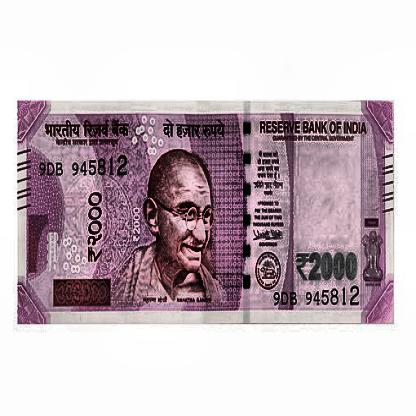Rs2000: (293, 248, 360, 284)
